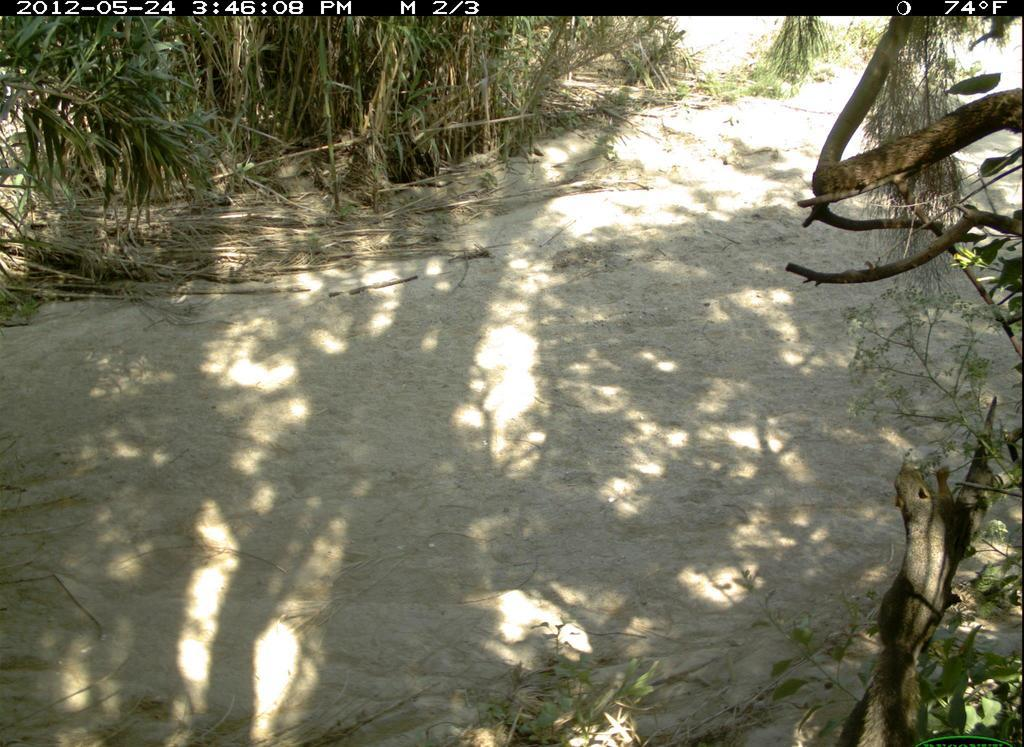squirrel: (822, 449, 990, 747)
